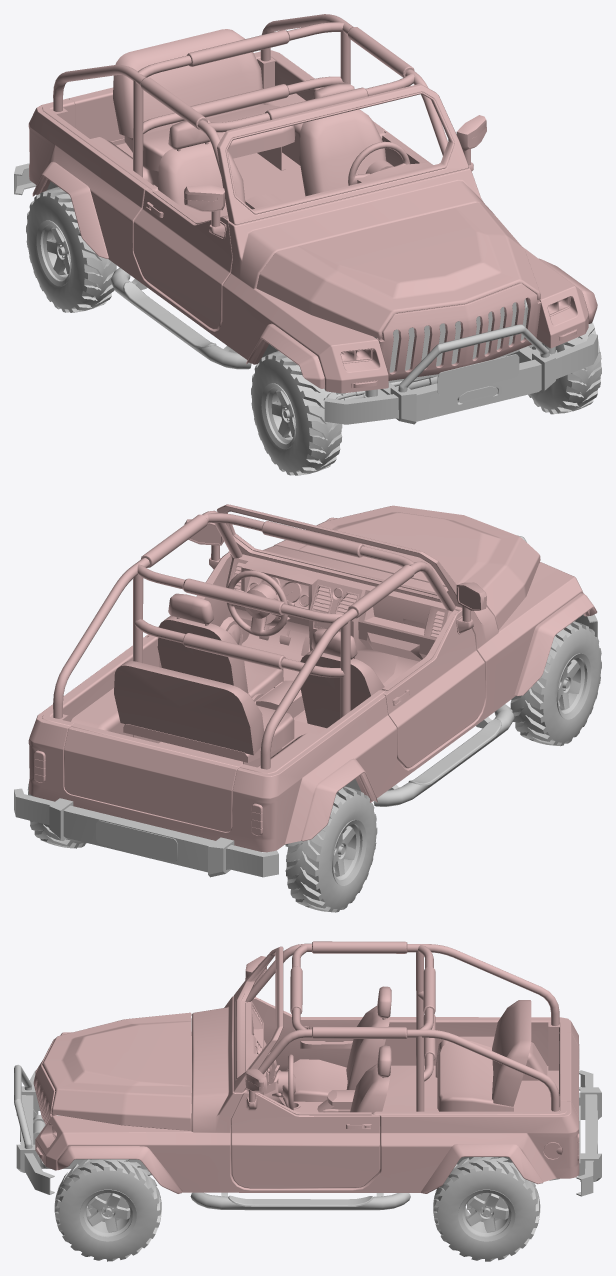
The model's file is Jeep.fbx.
3 renders of one model, top to bottom at view 1: azimuth 30°, elevation 25°; view 2: azimuth 150°, elevation 25°; view 3: azimuth 270°, elevation 25°, orthographic. The views are drawn at different scales.
Parts seen in each view (by area): view 1: Gensaeric_4Jeaaep_low, Plane082w_low005, Plane082w_low004, Plane082w_low003, Cylinder006; view 2: Gensaeric_4Jeaaep_low, Plane082w_low004, Plane082w_low005, Cylinder006, Plane082w_low002; view 3: Gensaeric_4Jeaaep_low, Plane082w_low003, Plane082w_low002, Cylinder006.
Boxes of the visible parts, bbox=[...] form: Gensaeric_4Jeaaep_low: bbox=[14, 14, 597, 424]; Plane082w_low005: bbox=[251, 351, 342, 475]; Plane082w_low004: bbox=[26, 187, 116, 312]; Plane082w_low003: bbox=[528, 322, 601, 414]; Cylinder006: bbox=[348, 141, 410, 185]; Gensaeric_4Jeaaep_low: bbox=[14, 504, 597, 877]; Plane082w_low004: bbox=[285, 786, 377, 912]; Plane082w_low005: bbox=[510, 621, 601, 746]; Cylinder006: bbox=[226, 570, 287, 636]; Plane082w_low002: bbox=[27, 783, 86, 848]; Gensaeric_4Jeaaep_low: bbox=[14, 941, 601, 1220]; Plane082w_low003: bbox=[54, 1159, 161, 1261]; Plane082w_low002: bbox=[433, 1157, 540, 1261]; Cylinder006: bbox=[278, 1054, 295, 1110].
Bounding box in the file's own units: 204 × 167 × 407.
